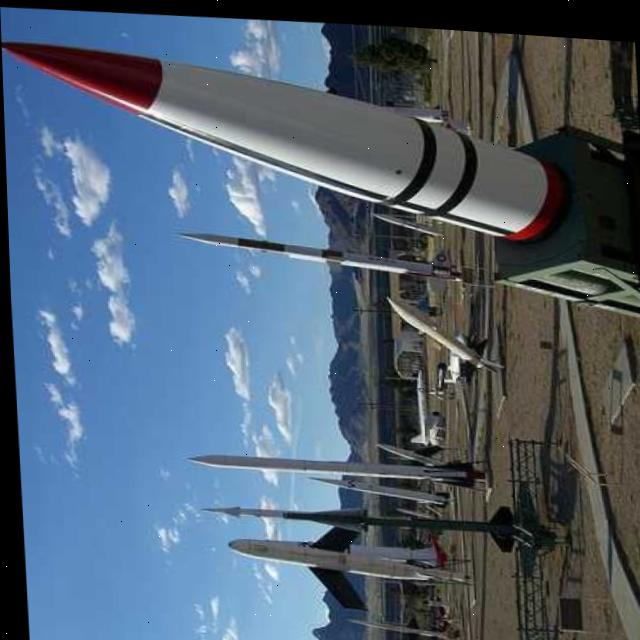missile: (1, 27, 570, 249), (218, 520, 454, 611), (173, 220, 450, 285), (196, 487, 519, 537), (179, 436, 474, 486), (383, 287, 487, 369), (334, 607, 442, 640), (409, 360, 427, 439)
